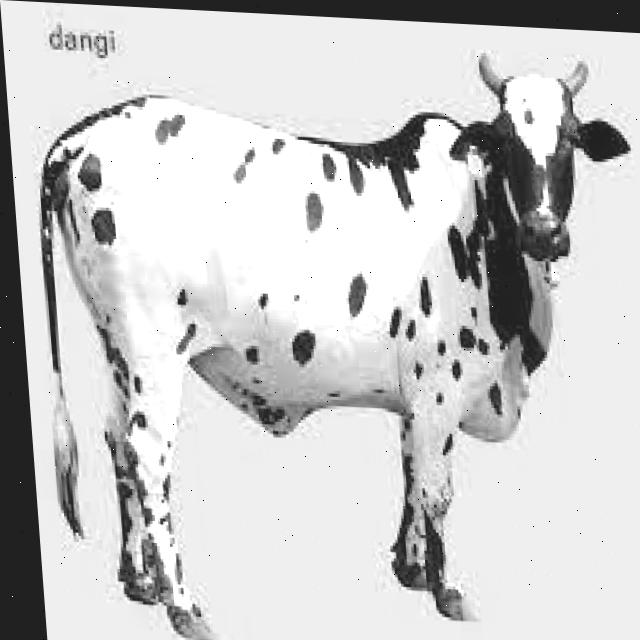Cow: (17, 23, 640, 640)
